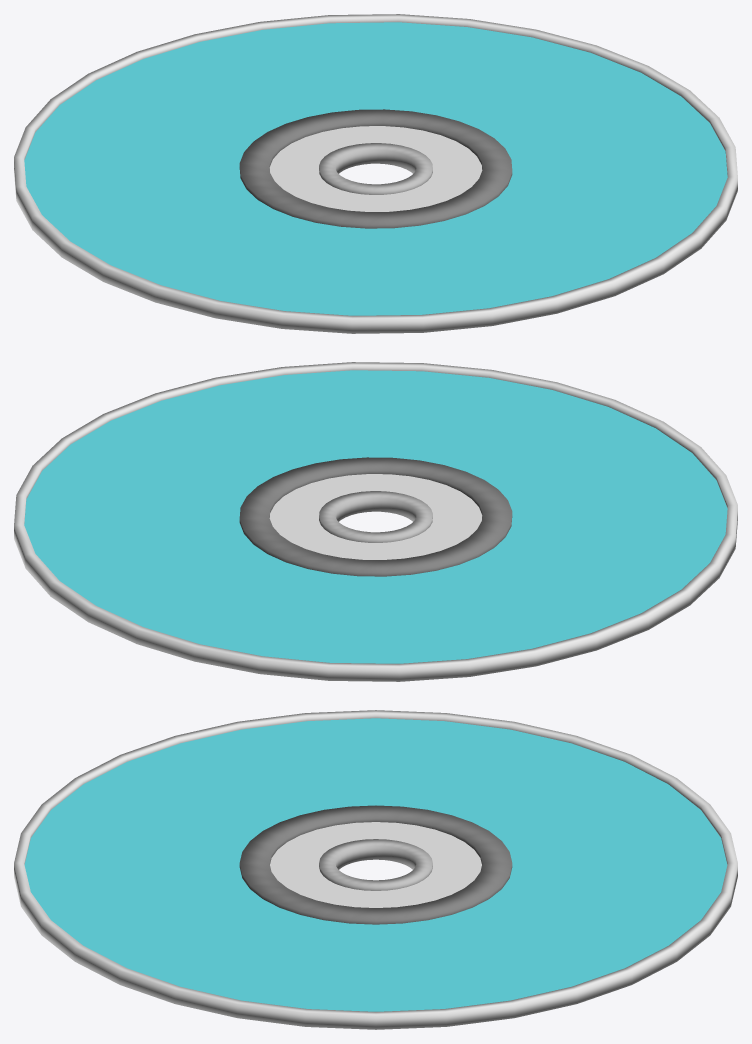
Rendered from music2.glb.
3 renders of one model, top to bottom at view 1: azimuth 30°, elevation 25°; view 2: azimuth 150°, elevation 25°; view 3: azimuth 270°, elevation 25°, orthographic.
Parts seen in each view (by area): view 1: Circle.001; view 2: Circle.001; view 3: Circle.001.
Part boxes in pixels (x1,y1,x2,y2): Circle.001: [14, 14, 737, 333]; Circle.001: [14, 362, 737, 681]; Circle.001: [14, 710, 737, 1029].
Bounding box in the file's own units: 2 × 0.0419 × 2.
